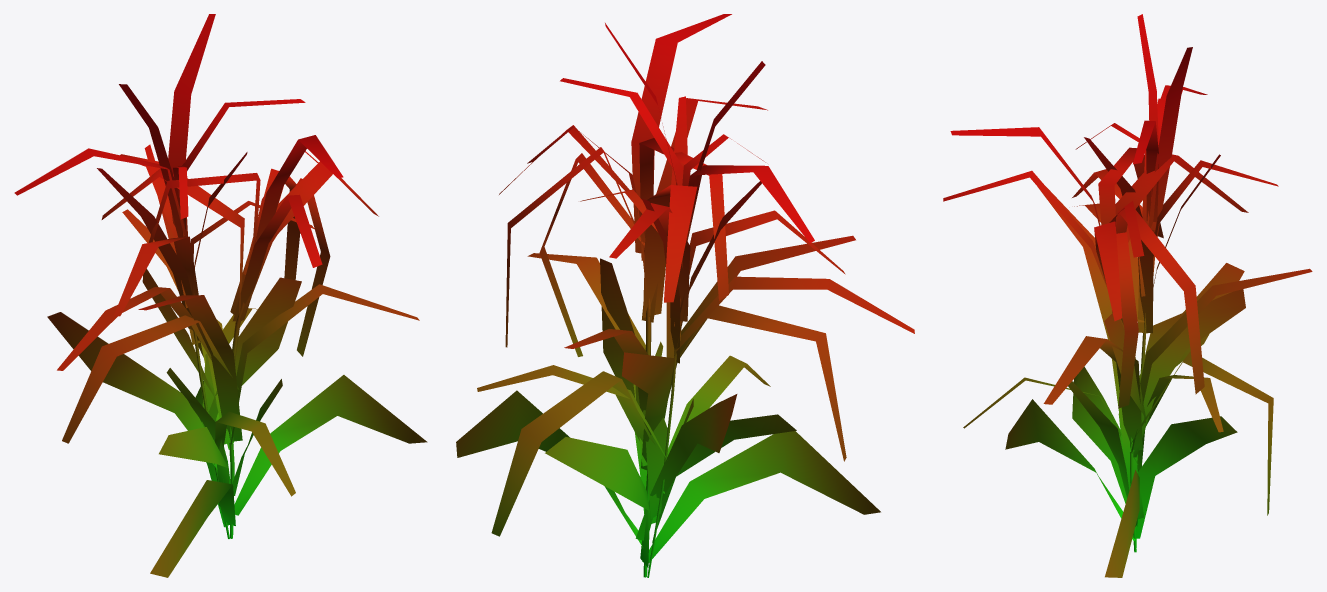
The model's file is Var3_LOD2.fbx.
3 views of the same model, side by side, from view 1: azimuth 30°, elevation 25°; view 2: azimuth 150°, elevation 25°; view 3: azimuth 270°, elevation 25° (orthographic). The views are drawn at different scales.
Parts seen in each view (by area): view 1: _3735_Var3_LOD2; view 2: _3735_Var3_LOD2; view 3: _3735_Var3_LOD2.
Boxes of the visible parts, x1,y1,x2,y2 form: _3735_Var3_LOD2: [14, 14, 427, 577]; _3735_Var3_LOD2: [456, 14, 914, 577]; _3735_Var3_LOD2: [943, 14, 1312, 577].
Bounding box in the file's own units: 35.46 × 44.07 × 28.98.
